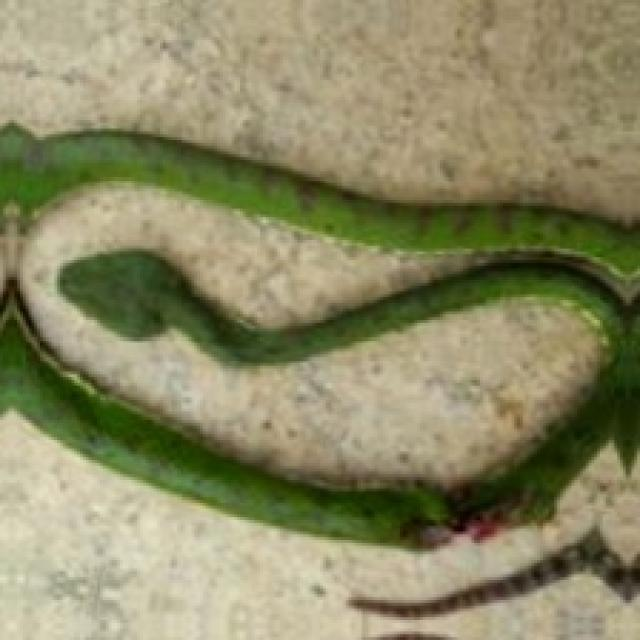philippine pitviper: (0, 254, 640, 547), (0, 126, 640, 272), (0, 126, 637, 271)
